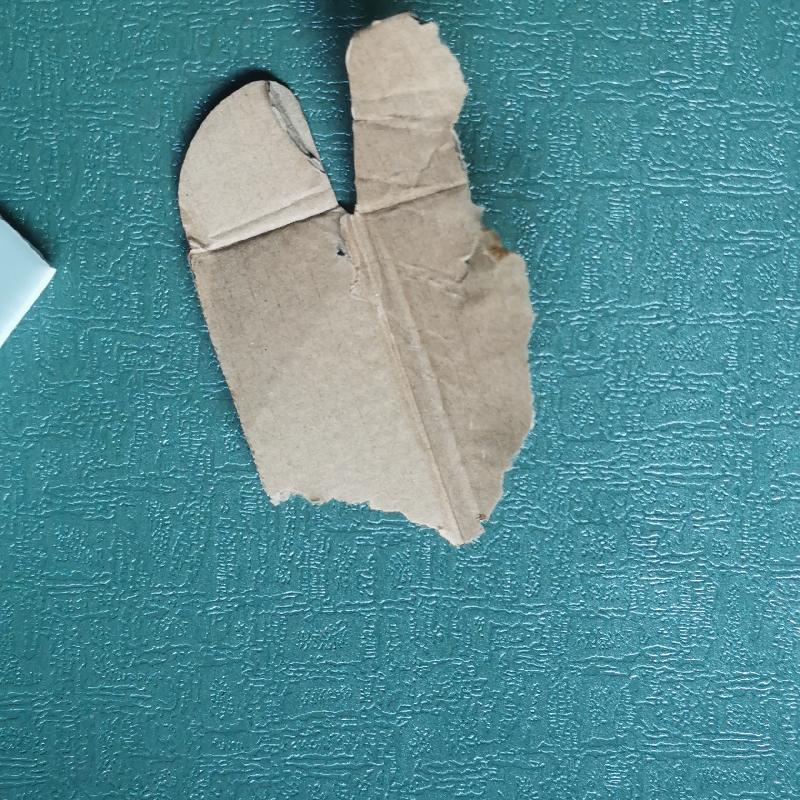boxes: (170, 25, 579, 578)
